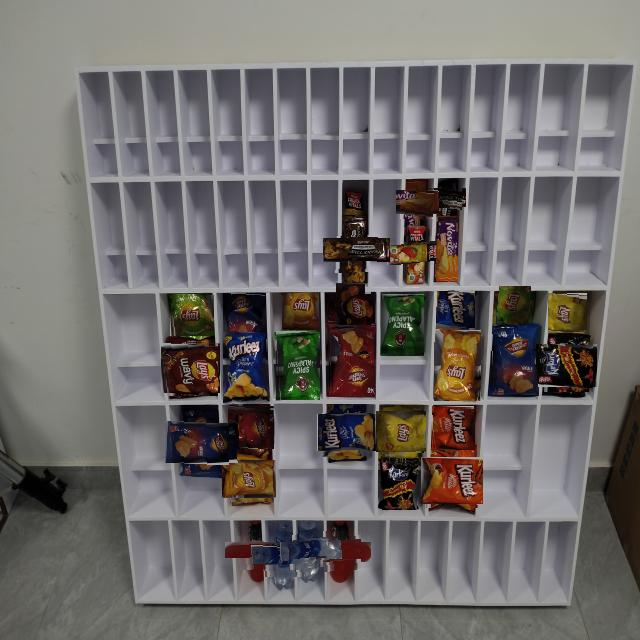Plastic: (490, 325, 539, 396), (328, 323, 375, 397), (434, 328, 481, 401), (172, 414, 229, 471), (223, 333, 268, 404), (275, 330, 320, 400), (162, 340, 218, 396), (424, 453, 479, 508), (539, 339, 593, 392), (381, 293, 424, 356), (322, 408, 372, 457), (226, 456, 273, 502), (333, 227, 379, 273), (378, 408, 424, 454), (378, 458, 418, 510), (229, 404, 274, 449), (262, 533, 306, 577), (169, 293, 214, 336), (431, 407, 475, 450), (223, 292, 266, 332), (320, 531, 361, 572), (289, 530, 330, 571), (396, 236, 436, 275), (331, 288, 371, 327), (548, 292, 587, 332), (236, 531, 274, 570), (436, 216, 458, 282), (436, 290, 474, 328), (496, 289, 534, 326), (282, 292, 319, 330), (400, 185, 434, 219), (433, 183, 462, 211), (345, 190, 364, 216)
